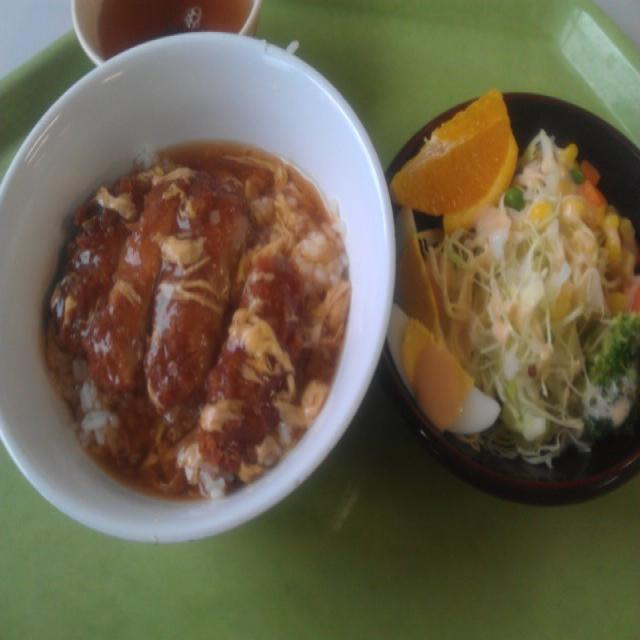Green Salad: (414, 142, 635, 472)
